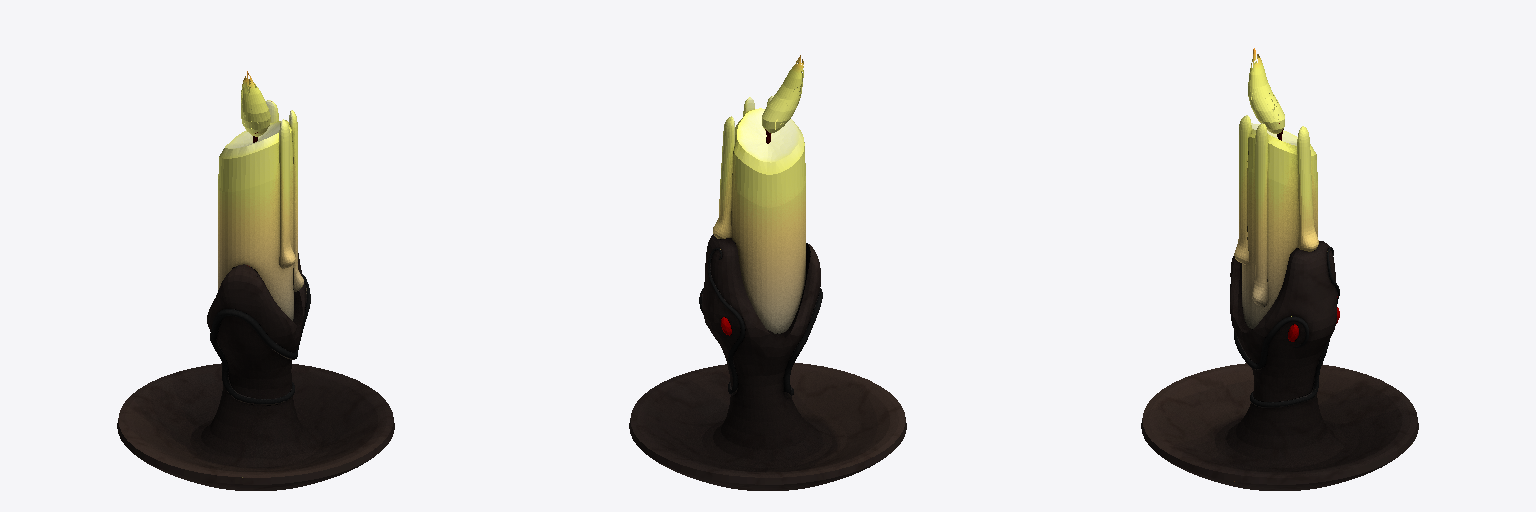
The picture shows the model from 3 angles: view 1: azimuth 30°, elevation 25°; view 2: azimuth 150°, elevation 25°; view 3: azimuth 270°, elevation 25°; orthographic projection.
Visible parts, largest first — view 1: Candlestand.006_Candlestand.001; view 2: Candlestand.006_Candlestand.001; view 3: Candlestand.006_Candlestand.001.
Part boxes in pixels (left/top/right/bottom): Candlestand.006_Candlestand.001: left=117, top=71, right=394, bottom=490; Candlestand.006_Candlestand.001: left=629, top=55, right=906, bottom=490; Candlestand.006_Candlestand.001: left=1141, top=48, right=1418, bottom=490.
Bounding box in the file's own units: 1.83 × 2.91 × 1.83.
1 materials, 1 textured.